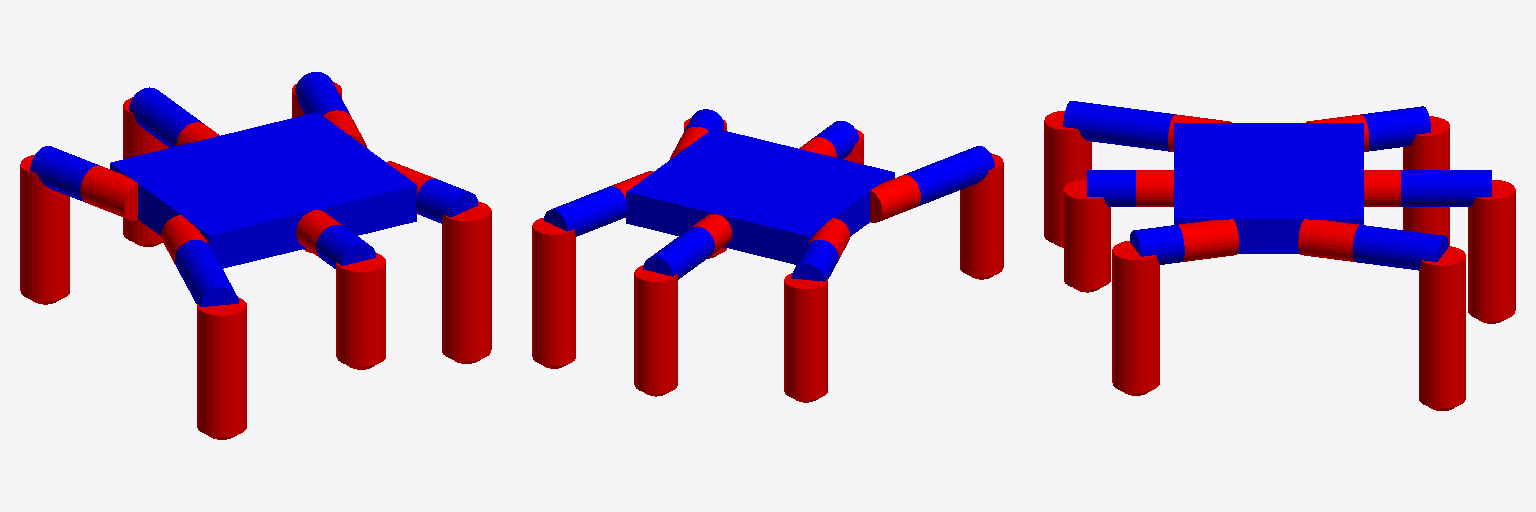
--- Facts derived from the render (not from the file) ---
The picture shows the robot from 3 angles, left to right: view 1: azimuth 30°, elevation 25°; view 2: azimuth 150°, elevation 25°; view 3: azimuth 270°, elevation 25°; orthographic projection.
Robot: pexod — 19 links, 18 joints (18 revolute); root link base_link; default pose: all joints at 0.
Visible links, largest first — view 1: base_link, leg_3_3, leg_5_3, leg_0_3, leg_4_3, leg_5_2, leg_1_2, leg_0_1, leg_0_2, leg_1_3, leg_3_2, leg_4_2 (+5 smaller); view 2: base_link, leg_2_3, leg_1_3, leg_0_3, leg_5_3, leg_5_2, leg_2_2, leg_1_2, leg_5_1, leg_0_2, leg_4_2, leg_0_1 (+2 smaller); view 3: base_link, leg_2_3, leg_3_3, leg_1_3, leg_4_3, leg_5_3, leg_5_2, leg_2_2, leg_1_2, leg_0_3, leg_0_2, leg_2_1 (+5 smaller).
Link boxes in pixels (x1,y1,x2,y2): base_link: [110, 112, 416, 268]; leg_3_3: [442, 201, 491, 363]; leg_5_3: [197, 297, 246, 439]; leg_0_3: [20, 155, 69, 304]; leg_4_3: [336, 253, 385, 369]; leg_5_2: [175, 240, 238, 306]; leg_1_2: [129, 87, 203, 147]; leg_0_1: [80, 165, 137, 220]; leg_0_2: [30, 146, 99, 202]; leg_1_3: [123, 97, 168, 246]; leg_3_2: [416, 178, 477, 223]; leg_4_2: [316, 225, 375, 268]; base_link: [626, 128, 894, 264]; leg_2_3: [532, 218, 575, 368]; leg_1_3: [634, 265, 677, 396]; leg_0_3: [784, 273, 827, 402]; leg_5_3: [960, 153, 1003, 279]; leg_5_2: [904, 146, 994, 206]; leg_2_2: [544, 186, 627, 236]; leg_1_2: [643, 226, 714, 279]; leg_5_1: [870, 175, 920, 222]; leg_0_2: [791, 240, 838, 281]; leg_4_2: [812, 121, 858, 158]; leg_0_1: [808, 218, 849, 262]; base_link: [1174, 123, 1363, 253]; leg_2_3: [1419, 246, 1465, 410]; leg_3_3: [1112, 241, 1159, 395]; leg_1_3: [1468, 180, 1515, 323]; leg_4_3: [1064, 180, 1110, 292]; leg_5_3: [1044, 111, 1091, 247]; leg_5_2: [1063, 101, 1174, 151]; leg_2_2: [1353, 225, 1448, 270]; leg_1_2: [1401, 170, 1491, 206]; leg_0_3: [1403, 116, 1449, 245]; leg_0_2: [1362, 106, 1430, 151]; leg_2_1: [1298, 219, 1358, 261].
Bounding box of the posed robot: 0.3871 × 0.4966 × 0.1987 m (x, y, z).
Geometry: primitives only (box / cylinder / sphere), no mesh files.

URDF robot description (pexod):
<?xml version="1.0" ?>
<!-- =================================================================================== -->
<!-- |    This document was autogenerated by xacro from pexod.xacro                    | -->
<!-- |    EDITING THIS FILE BY HAND IS NOT RECOMMENDED                                 | -->
<!-- =================================================================================== -->
<robot name="pexod" xmlns:xacro="http://www.ros.org/wiki/xacro">
  <!-- <xacro:include filename="$(find pexod_description)/urdf/pexod_control.xacro" /> -->
  <!-- MATERIALS -->
  <material name="Blue">
    <color rgba="0 0 1 1"/>
  </material>
  <material name="Red">
    <color rgba="1 0 0 1"/>
  </material>
  <material name="Green">
    <color rgba="0 1 0 1"/>
  </material>
  <material name="Yellow">
    <color rgba="1 1 0 1"/>
  </material>
  <material name="LightGrey">
    <color rgba="0.6 0.6 0.6 1.0"/>
  </material>
  <!-- END OF MATERIALS -->
  <!-- XACRO MACROS FOR VISUALS AND COLLISIONS -->
  <!-- END OF XACRO MACROS -->
  <!-- TORSO -->
  <link name="base_link">
    <visual>
      <origin rpy="0 0 0" xyz="0 0 0"/>
      <geometry>
        <box size="0.24 0.2 0.04"/>
      </geometry>
      <material name="Blue"/>
    </visual>
    <collision>
      <origin rpy="0 0 0" xyz="0 0 0"/>
      <geometry>
        <box size="0.24 0.2 0.04"/>
      </geometry>
    </collision>
    <inertial>
      <!-- CENTER OF MASS -->
      <origin rpy="0 0 0" xyz="0 0 0"/>
      <mass value="1.031"/>
      <!-- box inertia: 1/12*m(y^2+z^2), ... -->
      <inertia ixx="0.00357413333333" ixy="0" ixz="0" iyy="0.00508626666667" iyz="0" izz="0.00838546666667"/>
    </inertial>
  </link>
  <!-- XACRO MACRO FOR LEGS LINKS/JOINTS -->
  <!-- END OF LEG LINKS/JOINTS -->
  <joint name="body_leg_2" type="revolute">
    <parent link="base_link"/>
    <child link="leg_2_1"/>
    <limit effort="30.0" lower="-1.57079632679" upper="1.57079632679" velocity="7.0"/>
    <origin rpy="0 0 -0.3" xyz="0.11 0.04 0"/>
    <!-- <xacro:if value="${index == 5 or index == 4 or index == 3}">
                <axis xyz="0 0 1"/>
            </xacro:if>
            <xacro:if value="${index == 2 or index == 1 or index == 0}"> -->
    <axis xyz="0 0 1"/>
    <!-- </xacro:if> -->
    <dynamics damping="0.0"/>
  </joint>
  <link name="leg_2_1">
    <visual>
      <origin rpy="1.57079632679 0 0" xyz="0.01 0.03 0"/>
      <geometry>
        <cylinder length="0.06" radius="0.02"/>
      </geometry>
      <material name="Red"/>
    </visual>
    <collision>
      <origin rpy="1.57079632679 0 0" xyz="0.01 0.03 0"/>
      <geometry>
        <box size="0.02 0.02 0.06"/>
      </geometry>
    </collision>
    <inertial>
      <!-- CENTER OF MASS -->
      <origin rpy="1.57079632679 0 0" xyz="0.01 0.03 0"/>
      <mass value="0.02"/>
      <!-- box inertia: 1/12*m(y^2+z^2), ... -->
      <inertia ixx="6.66666666667e-06" ixy="0" ixz="0" iyy="6.66666666667e-06" iyz="0" izz="1.33333333333e-06"/>
    </inertial>
  </link>
  <joint name="leg_2_1_2" type="revolute">
    <parent link="leg_2_1"/>
    <child link="leg_2_2"/>
    <limit effort="30.0" lower="-0.78539816339" upper="0.78539816339" velocity="7.0"/>
    <origin rpy="0 0 0" xyz="0 0.06 0"/>
    <axis xyz="1 0 0"/>
    <dynamics damping="0.0"/>
  </joint>
  <link name="leg_2_2">
    <visual>
      <origin rpy="1.57079632679 0 0" xyz="0.01 0.0468210090509 0"/>
      <geometry>
        <cylinder length="0.0936420181018" radius="0.02"/>
      </geometry>
      <material name="Blue"/>
    </visual>
    <collision>
      <origin rpy="1.57079632679 0 0" xyz="0.01 0.0468210090509 0"/>
      <geometry>
        <box size="0.02 0.02 0.0936420181018"/>
      </geometry>
    </collision>
    <inertial>
      <!-- CENTER OF MASS -->
      <origin rpy="1.57079632679 0 0" xyz="0.01 0.0468210090509 0"/>
      <mass value="0.184"/>
      <!-- box inertia: 1/12*m(y^2+z^2), ... -->
      <inertia ixx="0.000140588689164" ixy="0" ixz="0" iyy="0.000140588689164" iyz="0" izz="1.22666666667e-05"/>
    </inertial>
  </link>
  <joint name="leg_2_2_3" type="revolute">
    <parent link="leg_2_2"/>
    <child link="leg_2_3"/>
    <limit effort="30.0" lower="-0.78539816339" upper="0.78539816339" velocity="7.0"/>
    <origin rpy="-1.57079632679 0 0" xyz="0 0.0936420181018 0"/>
    <axis xyz="-1 0 0"/>
    <dynamics damping="0.0"/>
  </joint>
  <link name="leg_2_3">
    <visual>
      <origin rpy="1.57079632679 0 0" xyz="0.0125 0.083111780269 0"/>
      <geometry>
        <cylinder length="0.166223560538" radius="0.025"/>
      </geometry>
      <material name="Red"/>
    </visual>
    <visual>
      <origin rpy="1.57079632679 0 0" xyz="0.0125 0.153723560538 0"/>
      <geometry>
        <sphere radius="0.025"/>
      </geometry>
      <material name="Red"/>
    </visual>
    <collision>
      <origin rpy="1.57079632679 0 0" xyz="0.0125 0.083111780269 0"/>
      <geometry>
        <box size="0.025 0.025 0.166223560538"/>
      </geometry>
    </collision>
    <collision>
      <origin rpy="1.57079632679 0 0" xyz="0.0125 0.153723560538 0"/>
      <geometry>
        <sphere radius="0.025"/>
      </geometry>
      <material name="Red"/>
    </collision>
    <inertial>
      <!-- CENTER OF MASS -->
      <origin rpy="1.57079632679 0 0" xyz="0.0125 0.083111780269 0"/>
      <mass value="0.04"/>
      <!-- box inertia: 1/12*m(y^2+z^2), ... -->
      <inertia ixx="9.41842402598e-05" ixy="0" ixz="0" iyy="9.41842402598e-05" iyz="0" izz="4.16666666667e-06"/>
    </inertial>
  </link>
  <joint name="body_leg_3" type="revolute">
    <parent link="base_link"/>
    <child link="leg_3_1"/>
    <limit effort="30.0" lower="-1.57079632679" upper="1.57079632679" velocity="7.0"/>
    <origin rpy="0 0 0.3" xyz="0.11 -0.04 0"/>
    <!-- <xacro:if value="${index == 5 or index == 4 or index == 3}">
                <axis xyz="0 0 1"/>
            </xacro:if>
            <xacro:if value="${index == 2 or index == 1 or index == 0}"> -->
    <axis xyz="0 0 1"/>
    <!-- </xacro:if> -->
    <dynamics damping="0.0"/>
  </joint>
  <link name="leg_3_1">
    <visual>
      <origin rpy="1.57079632679 0 0" xyz="0.01 -0.03 0"/>
      <geometry>
        <cylinder length="0.06" radius="0.02"/>
      </geometry>
      <material name="Red"/>
    </visual>
    <collision>
      <origin rpy="1.57079632679 0 0" xyz="0.01 -0.03 0"/>
      <geometry>
        <box size="0.02 0.02 0.06"/>
      </geometry>
    </collision>
    <inertial>
      <!-- CENTER OF MASS -->
      <origin rpy="1.57079632679 0 0" xyz="0.01 -0.03 0"/>
      <mass value="0.02"/>
      <!-- box inertia: 1/12*m(y^2+z^2), ... -->
      <inertia ixx="6.66666666667e-06" ixy="0" ixz="0" iyy="6.66666666667e-06" iyz="0" izz="1.33333333333e-06"/>
    </inertial>
  </link>
  <joint name="leg_3_1_2" type="revolute">
    <parent link="leg_3_1"/>
    <child link="leg_3_2"/>
    <limit effort="30.0" lower="-0.78539816339" upper="0.78539816339" velocity="7.0"/>
    <origin rpy="0 0 0" xyz="0 -0.06 0"/>
    <axis xyz="-1 0 0"/>
    <dynamics damping="0.0"/>
  </joint>
  <link name="leg_3_2">
    <visual>
      <origin rpy="1.57079632679 0 0" xyz="0.01 -0.0241515101495 0"/>
      <geometry>
        <cylinder length="0.0483030202991" radius="0.02"/>
      </geometry>
      <material name="Blue"/>
    </visual>
    <collision>
      <origin rpy="1.57079632679 0 0" xyz="0.01 -0.0241515101495 0"/>
      <geometry>
        <box size="0.02 0.02 0.0483030202991"/>
      </geometry>
    </collision>
    <inertial>
      <!-- CENTER OF MASS -->
      <origin rpy="1.57079632679 0 0" xyz="0.01 -0.0241515101495 0"/>
      <mass value="0.184"/>
      <!-- box inertia: 1/12*m(y^2+z^2), ... -->
      <inertia ixx="4.19087871402e-05" ixy="0" ixz="0" iyy="4.19087871402e-05" iyz="0" izz="1.22666666667e-05"/>
    </inertial>
  </link>
  <joint name="leg_3_2_3" type="revolute">
    <parent link="leg_3_2"/>
    <child link="leg_3_3"/>
    <limit effort="30.0" lower="-0.78539816339" upper="0.78539816339" velocity="7.0"/>
    <origin rpy="1.57079632679 0 0" xyz="0 -0.0483030202991 0"/>
    <axis xyz="1 0 0"/>
    <dynamics damping="0.0"/>
  </joint>
  <link name="leg_3_3">
    <visual>
      <origin rpy="1.57079632679 0 0" xyz="0.0125 -0.077312715903 0"/>
      <geometry>
        <cylinder length="0.154625431806" radius="0.025"/>
      </geometry>
      <material name="Red"/>
    </visual>
    <visual>
      <origin rpy="1.57079632679 0 0" xyz="0.0125 -0.142125431806 0"/>
      <geometry>
        <sphere radius="0.025"/>
      </geometry>
      <material name="Red"/>
    </visual>
    <collision>
      <origin rpy="1.57079632679 0 0" xyz="0.0125 -0.077312715903 0"/>
      <geometry>
        <box size="0.025 0.025 0.154625431806"/>
      </geometry>
    </collision>
    <collision>
      <origin rpy="1.57079632679 0 0" xyz="0.0125 -0.142125431806 0"/>
      <geometry>
        <sphere radius="0.025"/>
      </geometry>
      <material name="Red"/>
    </collision>
    <inertial>
      <!-- CENTER OF MASS -->
      <origin rpy="1.57079632679 0 0" xyz="0.0125 -0.077312715903 0"/>
      <mass value="0.04"/>
      <!-- box inertia: 1/12*m(y^2+z^2), ... -->
      <inertia ixx="8.17800805373e-05" ixy="0" ixz="0" iyy="8.17800805373e-05" iyz="0" izz="4.16666666667e-06"/>
    </inertial>
  </link>
  <joint name="body_leg_0" type="revolute">
    <parent link="base_link"/>
    <child link="leg_0_1"/>
    <limit effort="30.0" lower="-1.57079632679" upper="1.57079632679" velocity="7.0"/>
    <origin rpy="0 0 0.3" xyz="-0.13 0.04 0"/>
    <!-- <xacro:if value="${index == 5 or index == 4 or index == 3}">
                <axis xyz="0 0 1"/>
            </xacro:if>
            <xacro:if value="${index == 2 or index == 1 or index == 0}"> -->
    <axis xyz="0 0 1"/>
    <!-- </xacro:if> -->
    <dynamics damping="0.0"/>
  </joint>
  <link name="leg_0_1">
    <visual>
      <origin rpy="1.57079632679 0 0" xyz="0.01 0.03 0"/>
      <geometry>
        <cylinder length="0.06" radius="0.02"/>
      </geometry>
      <material name="Red"/>
    </visual>
    <collision>
      <origin rpy="1.57079632679 0 0" xyz="0.01 0.03 0"/>
      <geometry>
        <box size="0.02 0.02 0.06"/>
      </geometry>
    </collision>
    <inertial>
      <!-- CENTER OF MASS -->
      <origin rpy="1.57079632679 0 0" xyz="0.01 0.03 0"/>
      <mass value="0.02"/>
      <!-- box inertia: 1/12*m(y^2+z^2), ... -->
      <inertia ixx="6.66666666667e-06" ixy="0" ixz="0" iyy="6.66666666667e-06" iyz="0" izz="1.33333333333e-06"/>
    </inertial>
  </link>
  <joint name="leg_0_1_2" type="revolute">
    <parent link="leg_0_1"/>
    <child link="leg_0_2"/>
    <limit effort="30.0" lower="-0.78539816339" upper="0.78539816339" velocity="7.0"/>
    <origin rpy="0 0 0" xyz="0 0.06 0"/>
    <axis xyz="1 0 0"/>
    <dynamics damping="0.0"/>
  </joint>
  <link name="leg_0_2">
    <visual>
      <origin rpy="1.57079632679 0 0" xyz="0.01 0.0342519494406 0"/>
      <geometry>
        <cylinder length="0.0685038988813" radius="0.02"/>
      </geometry>
      <material name="Blue"/>
    </visual>
    <collision>
      <origin rpy="1.57079632679 0 0" xyz="0.01 0.0342519494406 0"/>
      <geometry>
        <box size="0.02 0.02 0.0685038988813"/>
      </geometry>
    </collision>
    <inertial>
      <!-- CENTER OF MASS -->
      <origin rpy="1.57079632679 0 0" xyz="0.01 0.0342519494406 0"/>
      <mass value="0.184"/>
      <!-- box inertia: 1/12*m(y^2+z^2), ... -->
      <inertia ixx="7.80893571497e-05" ixy="0" ixz="0" iyy="7.80893571497e-05" iyz="0" izz="1.22666666667e-05"/>
    </inertial>
  </link>
  <joint name="leg_0_2_3" type="revolute">
    <parent link="leg_0_2"/>
    <child link="leg_0_3"/>
    <limit effort="30.0" lower="-0.78539816339" upper="0.78539816339" velocity="7.0"/>
    <origin rpy="-1.57079632679 0 0" xyz="0 0.0685038988813 0"/>
    <axis xyz="-1 0 0"/>
    <dynamics damping="0.0"/>
  </joint>
  <link name="leg_0_3">
    <visual>
      <origin rpy="1.57079632679 0 0" xyz="0.0125 0.070101582632 0"/>
      <geometry>
        <cylinder length="0.140203165264" radius="0.025"/>
      </geometry>
      <material name="Red"/>
    </visual>
    <visual>
      <origin rpy="1.57079632679 0 0" xyz="0.0125 0.127703165264 0"/>
      <geometry>
        <sphere radius="0.025"/>
      </geometry>
      <material name="Red"/>
    </visual>
    <collision>
      <origin rpy="1.57079632679 0 0" xyz="0.0125 0.070101582632 0"/>
      <geometry>
        <box size="0.025 0.025 0.140203165264"/>
      </geometry>
    </collision>
    <collision>
      <origin rpy="1.57079632679 0 0" xyz="0.0125 0.127703165264 0"/>
      <geometry>
        <sphere radius="0.025"/>
      </geometry>
      <material name="Red"/>
    </collision>
    <inertial>
      <!-- CENTER OF MASS -->
      <origin rpy="1.57079632679 0 0" xyz="0.0125 0.070101582632 0"/>
      <mass value="0.04"/>
      <!-- box inertia: 1/12*m(y^2+z^2), ... -->
      <inertia ixx="6.76064251668e-05" ixy="0" ixz="0" iyy="6.76064251668e-05" iyz="0" izz="4.16666666667e-06"/>
    </inertial>
  </link>
  <joint name="body_leg_5" type="revolute">
    <parent link="base_link"/>
    <child link="leg_5_1"/>
    <limit effort="30.0" lower="-1.57079632679" upper="1.57079632679" velocity="7.0"/>
    <origin rpy="0 0 -0.3" xyz="-0.13 -0.04 0"/>
    <!-- <xacro:if value="${index == 5 or index == 4 or index == 3}">
                <axis xyz="0 0 1"/>
            </xacro:if>
            <xacro:if value="${index == 2 or index == 1 or index == 0}"> -->
    <axis xyz="0 0 1"/>
    <!-- </xacro:if> -->
    <dynamics damping="0.0"/>
  </joint>
  <link name="leg_5_1">
    <visual>
      <origin rpy="1.57079632679 0 0" xyz="0.01 -0.03 0"/>
      <geometry>
        <cylinder length="0.06" radius="0.02"/>
      </geometry>
      <material name="Red"/>
    </visual>
    <collision>
      <origin rpy="1.57079632679 0 0" xyz="0.01 -0.03 0"/>
      <geometry>
        <box size="0.02 0.02 0.06"/>
      </geometry>
    </collision>
    <inertial>
      <!-- CENTER OF MASS -->
      <origin rpy="1.57079632679 0 0" xyz="0.01 -0.03 0"/>
      <mass value="0.02"/>
      <!-- box inertia: 1/12*m(y^2+z^2), ... -->
      <inertia ixx="6.66666666667e-06" ixy="0" ixz="0" iyy="6.66666666667e-06" iyz="0" izz="1.33333333333e-06"/>
    </inertial>
  </link>
  <joint name="leg_5_1_2" type="revolute">
    <parent link="leg_5_1"/>
    <child link="leg_5_2"/>
    <limit effort="30.0" lower="-0.78539816339" upper="0.78539816339" velocity="7.0"/>
    <origin rpy="0 0 0" xyz="0 -0.06 0"/>
    <axis xyz="-1 0 0"/>
    <dynamics damping="0.0"/>
  </joint>
  <link name="leg_5_2">
    <visual>
      <origin rpy="1.57079632679 0 0" xyz="0.01 -0.0578109195995 0"/>
      <geometry>
        <cylinder length="0.115621839199" radius="0.02"/>
      </geometry>
      <material name="Blue"/>
    </visual>
    <collision>
      <origin rpy="1.57079632679 0 0" xyz="0.01 -0.0578109195995 0"/>
      <geometry>
        <box size="0.02 0.02 0.115621839199"/>
      </geometry>
    </collision>
    <inertial>
      <!-- CENTER OF MASS -->
      <origin rpy="1.57079632679 0 0" xyz="0.01 -0.0578109195995 0"/>
      <mass value="0.184"/>
      <!-- box inertia: 1/12*m(y^2+z^2), ... -->
      <inertia ixx="0.000211115615396" ixy="0" ixz="0" iyy="0.000211115615396" iyz="0" izz="1.22666666667e-05"/>
    </inertial>
  </link>
  <joint name="leg_5_2_3" type="revolute">
    <parent link="leg_5_2"/>
    <child link="leg_5_3"/>
    <limit effort="30.0" lower="-0.78539816339" upper="0.78539816339" velocity="7.0"/>
    <origin rpy="1.57079632679 0 0" xyz="0 -0.115621839199 0"/>
    <axis xyz="1 0 0"/>
    <dynamics damping="0.0"/>
  </joint>
  <link name="leg_5_3">
    <visual>
      <origin rpy="1.57079632679 0 0" xyz="0.0125 -0.066982669683 0"/>
      <geometry>
        <cylinder length="0.133965339366" radius="0.025"/>
      </geometry>
      <material name="Red"/>
    </visual>
    <visual>
      <origin rpy="1.57079632679 0 0" xyz="0.0125 -0.121465339366 0"/>
      <geometry>
        <sphere radius="0.025"/>
      </geometry>
      <material name="Red"/>
    </visual>
    <collision>
      <origin rpy="1.57079632679 0 0" xyz="0.0125 -0.066982669683 0"/>
      <geometry>
        <box size="0.025 0.025 0.133965339366"/>
      </geometry>
    </collision>
    <collision>
      <origin rpy="1.57079632679 0 0" xyz="0.0125 -0.121465339366 0"/>
      <geometry>
        <sphere radius="0.025"/>
      </geometry>
      <material name="Red"/>
    </collision>
    <inertial>
      <!-- CENTER OF MASS -->
      <origin rpy="1.57079632679 0 0" xyz="0.0125 -0.066982669683 0"/>
      <mass value="0.04"/>
      <!-- box inertia: 1/12*m(y^2+z^2), ... -->
      <inertia ixx="6.19057071715e-05" ixy="0" ixz="0" iyy="6.19057071715e-05" iyz="0" izz="4.16666666667e-06"/>
    </inertial>
  </link>
  <joint name="body_leg_1" type="revolute">
    <parent link="base_link"/>
    <child link="leg_1_1"/>
    <limit effort="30.0" lower="-1.57079632679" upper="1.57079632679" velocity="7.0"/>
    <origin rpy="0 0 0" xyz="-0.01 0.08 0"/>
    <!-- <xacro:if value="${index == 5 or index == 4 or index == 3}">
                <axis xyz="0 0 1"/>
            </xacro:if>
            <xacro:if value="${index == 2 or index == 1 or index == 0}"> -->
    <axis xyz="0 0 1"/>
    <!-- </xacro:if> -->
    <dynamics damping="0.0"/>
  </joint>
  <link name="leg_1_1">
    <visual>
      <origin rpy="1.57079632679 0 0" xyz="0.01 0.03 0"/>
      <geometry>
        <cylinder length="0.06" radius="0.02"/>
      </geometry>
      <material name="Red"/>
    </visual>
    <collision>
      <origin rpy="1.57079632679 0 0" xyz="0.01 0.03 0"/>
      <geometry>
        <box size="0.02 0.02 0.06"/>
      </geometry>
    </collision>
    <inertial>
      <!-- CENTER OF MASS -->
      <origin rpy="1.57079632679 0 0" xyz="0.01 0.03 0"/>
      <mass value="0.02"/>
      <!-- box inertia: 1/12*m(y^2+z^2), ... -->
      <inertia ixx="6.66666666667e-06" ixy="0" ixz="0" iyy="6.66666666667e-06" iyz="0" izz="1.33333333333e-06"/>
    </inertial>
  </link>
  <joint name="leg_1_1_2" type="revolute">
    <parent link="leg_1_1"/>
    <child link="leg_1_2"/>
    <limit effort="30.0" lower="-0.78539816339" upper="0.78539816339" velocity="7.0"/>
    <origin rpy="0 0 0" xyz="0 0.06 0"/>
    <axis xyz="1 0 0"/>
    <dynamics damping="0.0"/>
  </joint>
  <link name="leg_1_2">
    <visual>
      <origin rpy="1.57079632679 0 0" xyz="0.01 0.047614193812 0"/>
      <geometry>
        <cylinder length="0.095228387624" radius="0.02"/>
      </geometry>
      <material name="Blue"/>
    </visual>
    <collision>
      <origin rpy="1.57079632679 0 0" xyz="0.01 0.047614193812 0"/>
      <geometry>
        <box size="0.02 0.02 0.095228387624"/>
      </geometry>
    </collision>
    <inertial>
      <!-- CENTER OF MASS -->
      <origin rpy="1.57079632679 0 0" xyz="0.01 0.047614193812 0"/>
      <mass value="0.184"/>
      <!-- box inertia: 1/12*m(y^2+z^2), ... -->
      <inertia ixx="0.000145182835745" ixy="0" ixz="0" iyy="0.000145182835745" iyz="0" izz="1.22666666667e-05"/>
    </inertial>
  </link>
  <joint name="leg_1_2_3" type="revolute">
    <parent link="leg_1_2"/>
    <child link="leg_1_3"/>
    <limit effort="30.0" lower="-0.78539816339" upper="0.78539816339" velocity="7.0"/>
    <origin rpy="-1.57079632679 0 0" xyz="0 0.095228387624 0"/>
    <axis xyz="-1 0 0"/>
    <dynamics damping="0.0"/>
  </joint>
  <link name="leg_1_3">
    <visual>
      <origin rpy="1.57079632679 0 0" xyz="0.0125 0.07073503184 0"/>
      <geometry>
        <cylinder length="0.14147006368" radius="0.025"/>
      </geometry>
      <material name="Red"/>
    </visual>
    <visual>
      <origin rpy="1.57079632679 0 0" xyz="0.0125 0.12897006368 0"/>
      <geometry>
        <sphere radius="0.025"/>
      </geometry>
      <material name="Red"/>
    </visual>
    <collision>
      <origin rpy="1.57079632679 0 0" xyz="0.0125 0.07073503184 0"/>
      <geometry>
        <box size="0.025 0.025 0.14147006368"/>
      </geometry>
    </collision>
    <collision>
      <origin rpy="1.57079632679 0 0" xyz="0.0125 0.12897006368 0"/>
      <geometry>
        <sphere radius="0.025"/>
      </geometry>
      <material name="Red"/>
    </collision>
    <inertial>
      <!-- CENTER OF MASS -->
      <origin rpy="1.57079632679 0 0" xyz="0.0125 0.07073503184 0"/>
      <mass value="0.04"/>
      <!-- box inertia: 1/12*m(y^2+z^2), ... -->
      <inertia ixx="6.87959297254e-05" ixy="0" ixz="0" iyy="6.87959297254e-05" iyz="0" izz="4.16666666667e-06"/>
    </inertial>
  </link>
  <joint name="body_leg_4" type="revolute">
    <parent link="base_link"/>
    <child link="leg_4_1"/>
    <limit effort="30.0" lower="-1.57079632679" upper="1.57079632679" velocity="7.0"/>
    <origin rpy="0 0 0" xyz="-0.01 -0.08 0"/>
    <!-- <xacro:if value="${index == 5 or index == 4 or index == 3}">
                <axis xyz="0 0 1"/>
            </xacro:if>
            <xacro:if value="${index == 2 or index == 1 or index == 0}"> -->
    <axis xyz="0 0 1"/>
    <!-- </xacro:if> -->
    <dynamics damping="0.0"/>
  </joint>
  <link name="leg_4_1">
    <visual>
      <origin rpy="1.57079632679 0 0" xyz="0.01 -0.03 0"/>
      <geometry>
        <cylinder length="0.06" radius="0.02"/>
      </geometry>
      <material name="Red"/>
    </visual>
    <collision>
      <origin rpy="1.57079632679 0 0" xyz="0.01 -0.03 0"/>
      <geometry>
        <box size="0.02 0.02 0.06"/>
      </geometry>
    </collision>
    <inertial>
      <!-- CENTER OF MASS -->
      <origin rpy="1.57079632679 0 0" xyz="0.01 -0.03 0"/>
      <mass value="0.02"/>
      <!-- box inertia: 1/12*m(y^2+z^2), ... -->
      <inertia ixx="6.66666666667e-06" ixy="0" ixz="0" iyy="6.66666666667e-06" iyz="0" izz="1.33333333333e-06"/>
    </inertial>
  </link>
  <joint name="leg_4_1_2" type="revolute">
    <parent link="leg_4_1"/>
    <child link="leg_4_2"/>
    <limit effort="30.0" lower="-0.78539816339" upper="0.78539816339" velocity="7.0"/>
    <origin rpy="0 0 0" xyz="0 -0.06 0"/>
    <axis xyz="-1 0 0"/>
    <dynamics damping="0.0"/>
  </joint>
  <link name="leg_4_2">
    <visual>
      <origin rpy="1.57079632679 0 0" xyz="0.01 -0.0256475711029 0"/>
      <geometry>
        <cylinder length="0.0512951422058" radius="0.02"/>
      </geometry>
      <material name="Blue"/>
    </visual>
    <collision>
      <origin rpy="1.57079632679 0 0" xyz="0.01 -0.0256475711029 0"/>
      <geometry>
        <box size="0.02 0.02 0.0512951422058"/>
      </geometry>
    </collision>
    <inertial>
      <!-- CENTER OF MASS -->
      <origin rpy="1.57079632679 0 0" xyz="0.01 -0.0256475711029 0"/>
      <mass value="0.184"/>
      <!-- box inertia: 1/12*m(y^2+z^2), ... -->
      <inertia ixx="4.64782714133e-05" ixy="0" ixz="0" iyy="4.64782714133e-05" iyz="0" izz="1.22666666667e-05"/>
    </inertial>
  </link>
  <joint name="leg_4_2_3" type="revolute">
    <parent link="leg_4_2"/>
    <child link="leg_4_3"/>
    <limit effort="30.0" lower="-0.78539816339" upper="0.78539816339" velocity="7.0"/>
    <origin rpy="1.57079632679 0 0" xyz="0 -0.0512951422058 0"/>
    <axis xyz="1 0 0"/>
    <dynamics damping="0.0"/>
  </joint>
  <link name="leg_4_3">
    <visual>
      <origin rpy="1.57079632679 0 0" xyz="0.0125 -0.052412669116 0"/>
      <geometry>
        <cylinder length="0.104825338232" radius="0.025"/>
      </geometry>
      <material name="Red"/>
    </visual>
    <visual>
      <origin rpy="1.57079632679 0 0" xyz="0.0125 -0.092325338232 0"/>
      <geometry>
        <sphere radius="0.025"/>
      </geometry>
      <material name="Red"/>
    </visual>
    <collision>
      <origin rpy="1.57079632679 0 0" xyz="0.0125 -0.052412669116 0"/>
      <geometry>
        <box size="0.025 0.025 0.104825338232"/>
      </geometry>
    </collision>
    <collision>
      <origin rpy="1.57079632679 0 0" xyz="0.0125 -0.092325338232 0"/>
      <geometry>
        <sphere radius="0.025"/>
      </geometry>
      <material name="Red"/>
    </collision>
    <inertial>
      <!-- CENTER OF MASS -->
      <origin rpy="1.57079632679 0 0" xyz="0.0125 -0.052412669116 0"/>
      <mass value="0.04"/>
      <!-- box inertia: 1/12*m(y^2+z^2), ... -->
      <inertia ixx="3.87111717848e-05" ixy="0" ixz="0" iyy="3.87111717848e-05" iyz="0" izz="4.16666666667e-06"/>
    </inertial>
  </link>
  <!-- END OF LEG LINKS/JOINTS -->
</robot>
